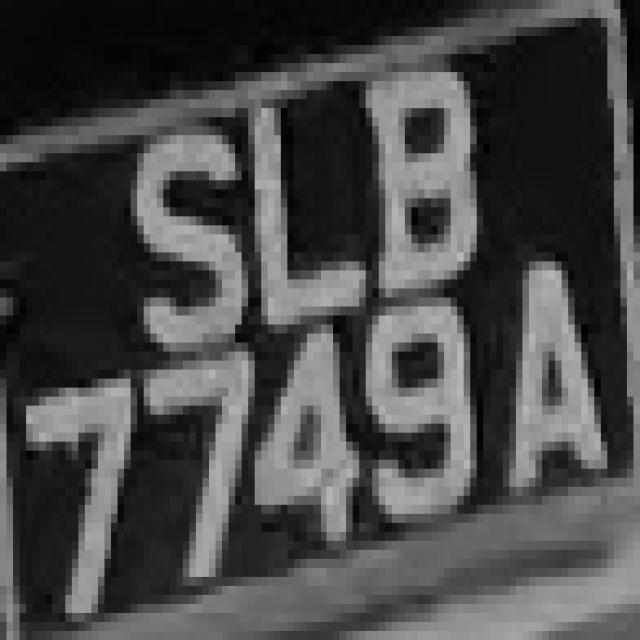4: (248, 306, 366, 568)
7: (7, 342, 150, 613), (118, 315, 255, 595)
9: (353, 288, 470, 568)
A: (470, 261, 620, 541)
B: (359, 54, 483, 316)
L: (228, 99, 378, 370)
S: (118, 99, 248, 370)
